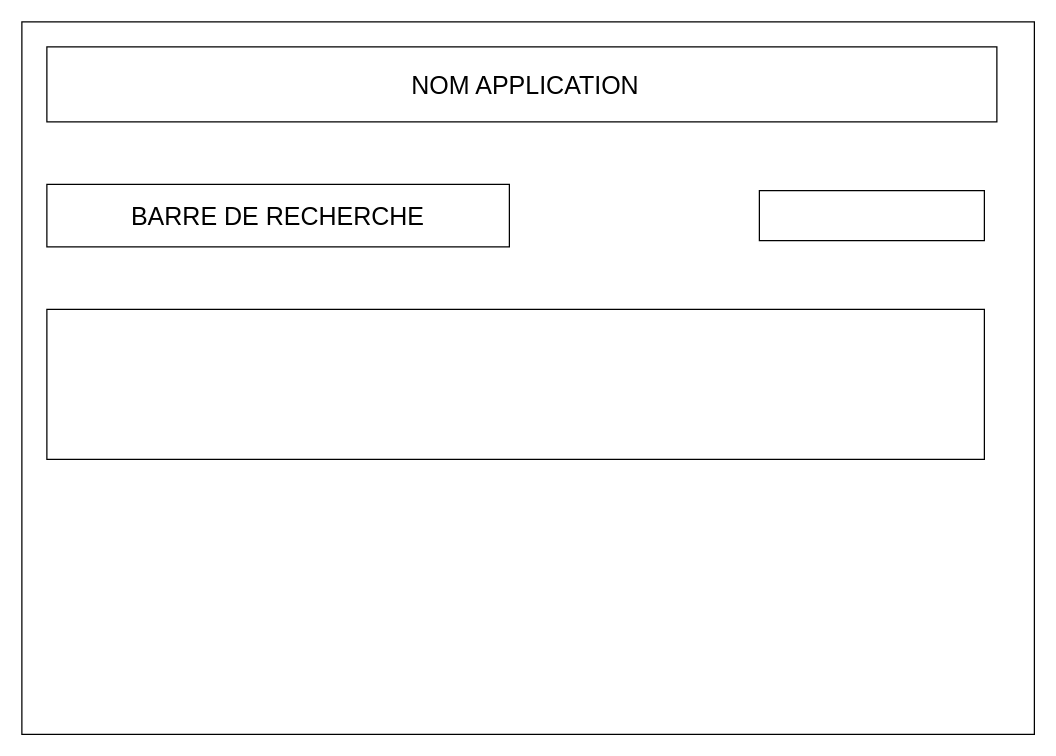
Image size: 1056x756. Some labels were removed from this diagram. Each missing label, with the box of its shape:
RECHERCHE: (758, 189, 984, 241)
RESULTAT: (46, 308, 984, 459)
